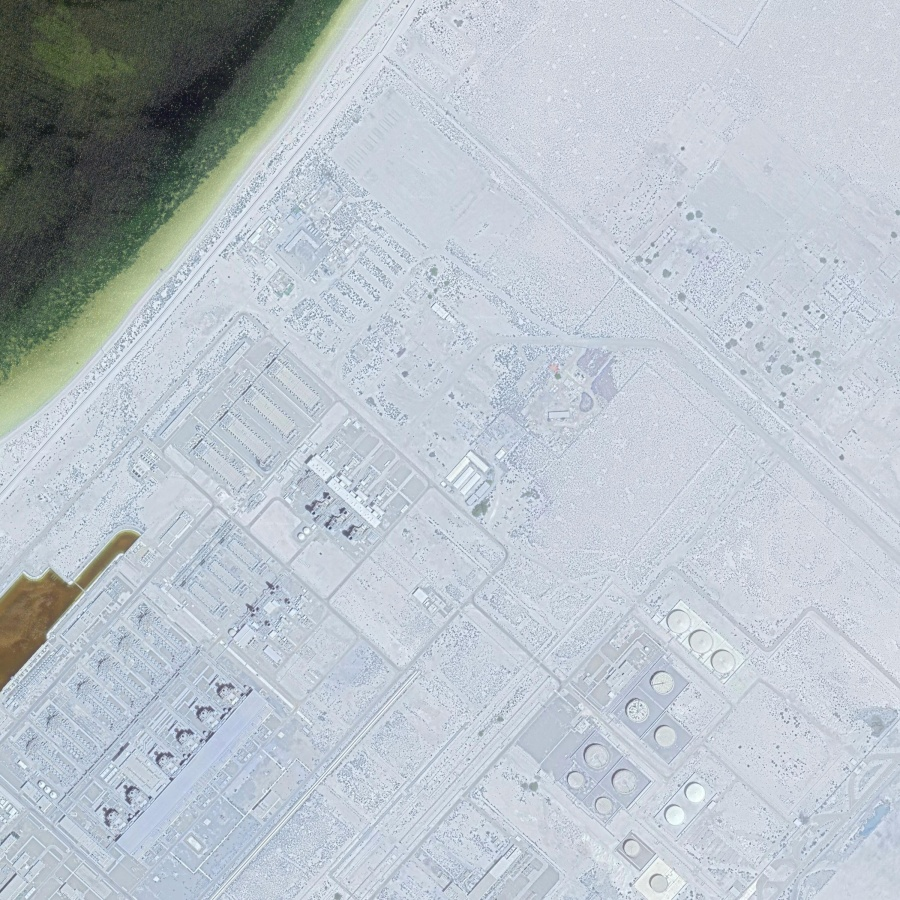PowerPlant: (555, 603, 767, 900)
